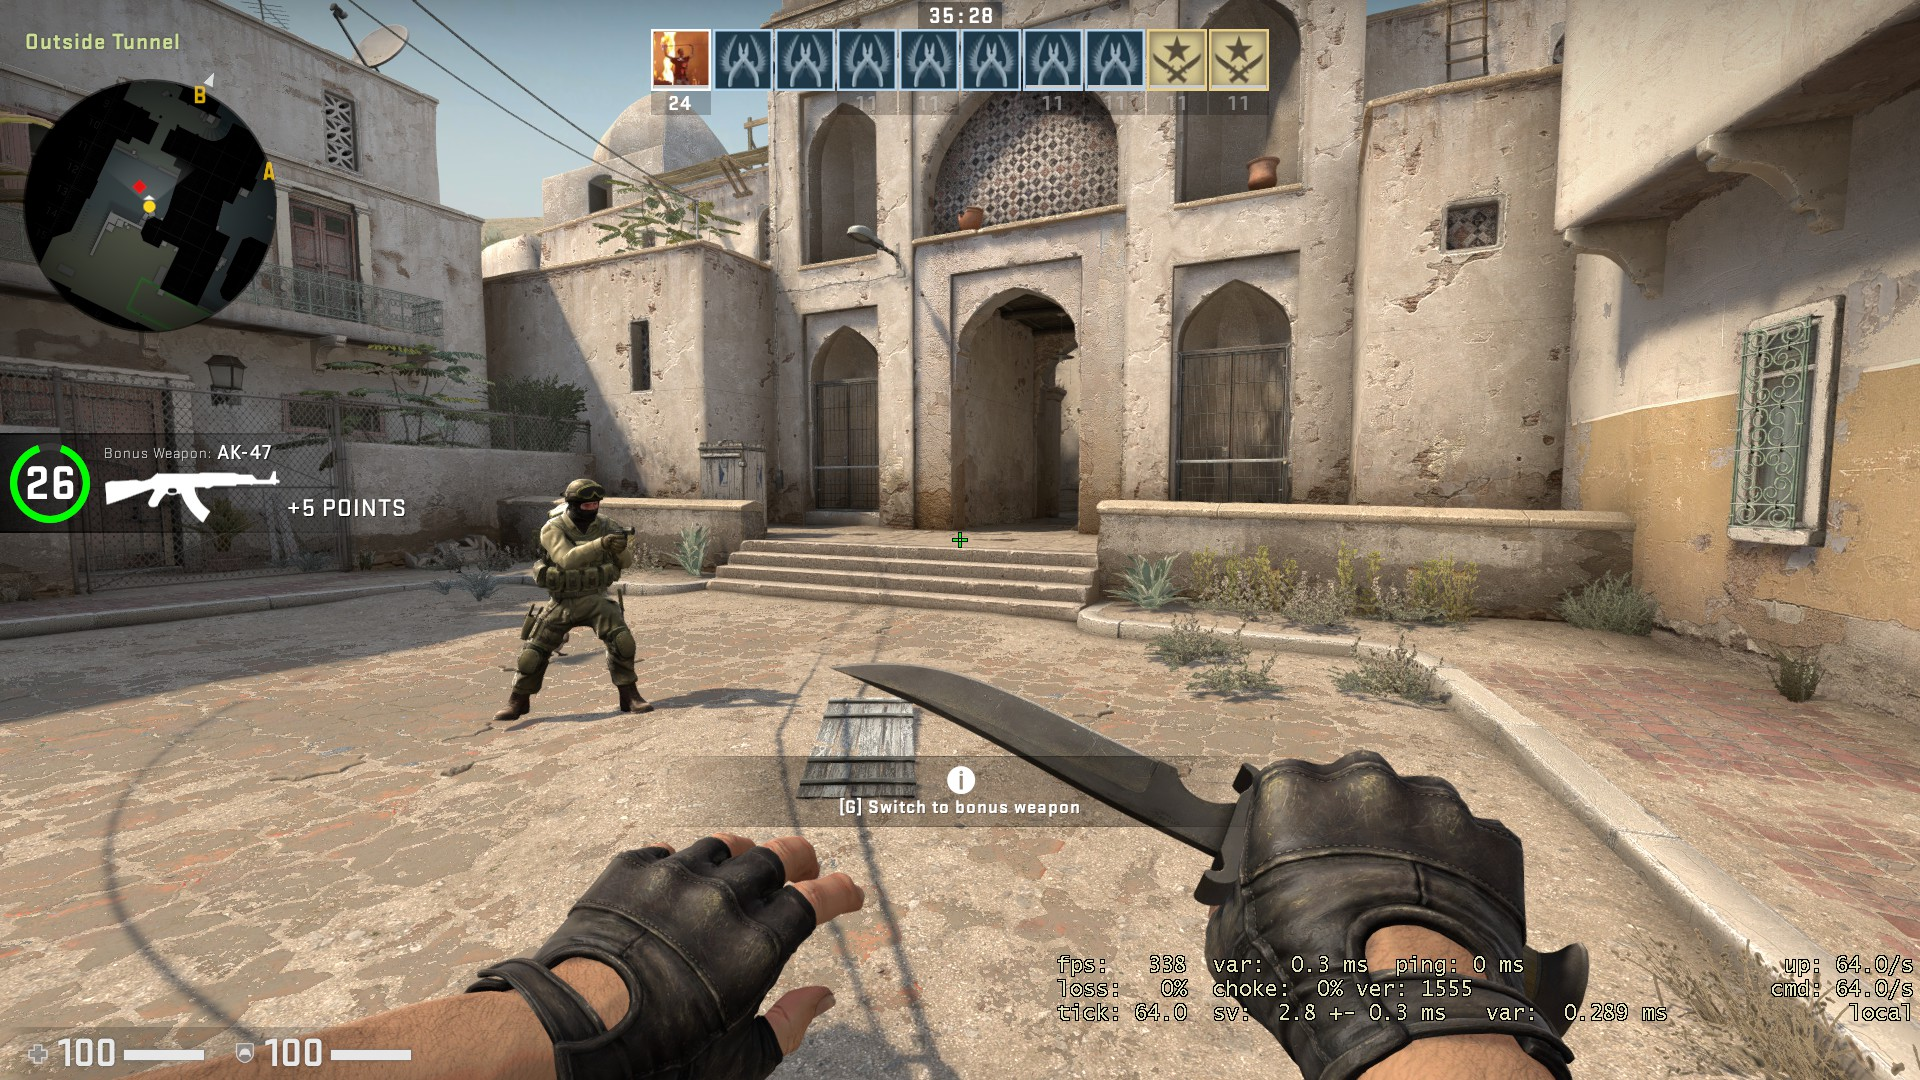player: (487, 471, 659, 720)
